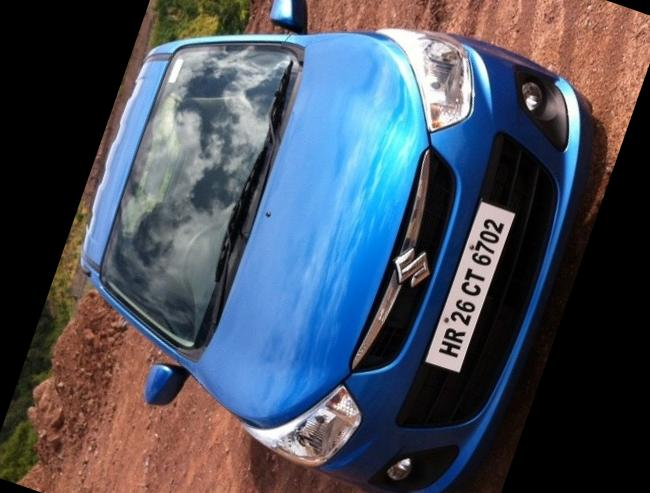plate: (413, 190, 532, 393)
